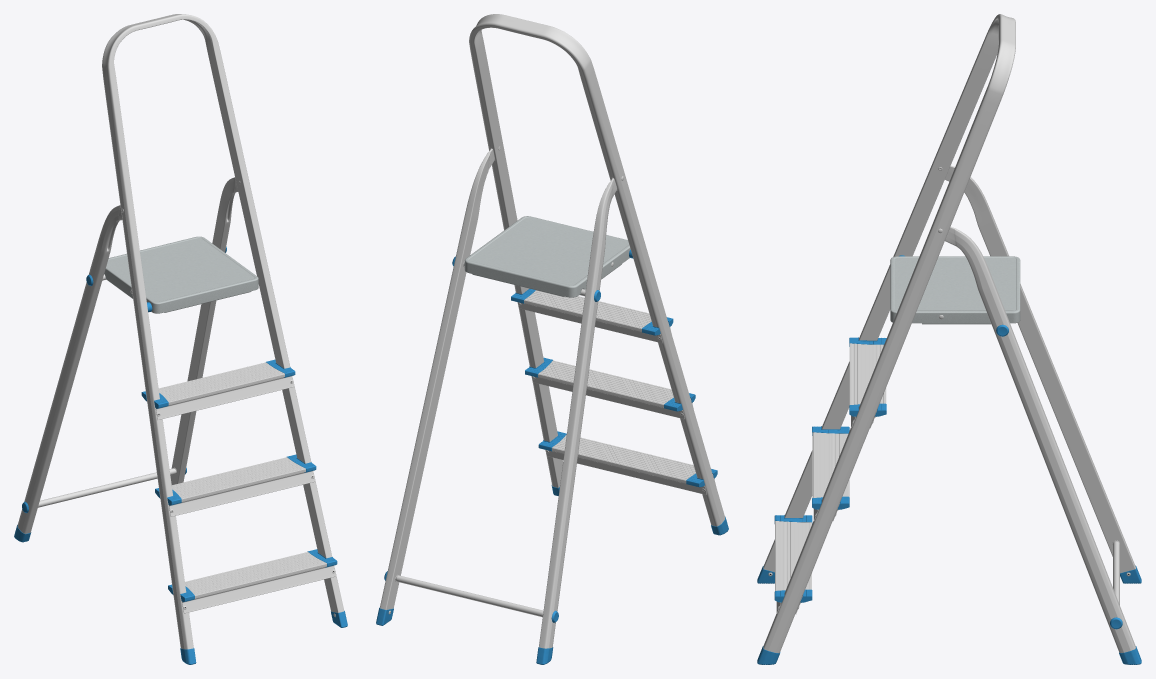
3 renders of one model, left to right at view 1: azimuth 30°, elevation 25°; view 2: azimuth 150°, elevation 25°; view 3: azimuth 270°, elevation 25°, orthographic. The views are drawn at different scales.
Parts seen in each view (by area): view 1: RootNode; view 2: RootNode; view 3: RootNode.
Part boxes in pixels (x1,y1,x2,y2): RootNode: (14,14,347,664); RootNode: (376,14,728,664); RootNode: (757,14,1141,664).
Bounding box in the file's own units: 0.445 × 1.43 × 0.842.
Materials: 1 (1 with a texture image).
